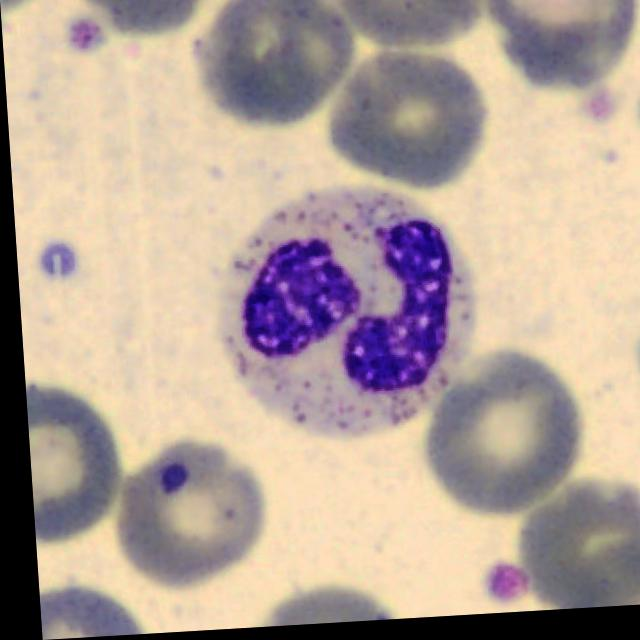Neutrofilo segmentado: (213, 192, 469, 444)
